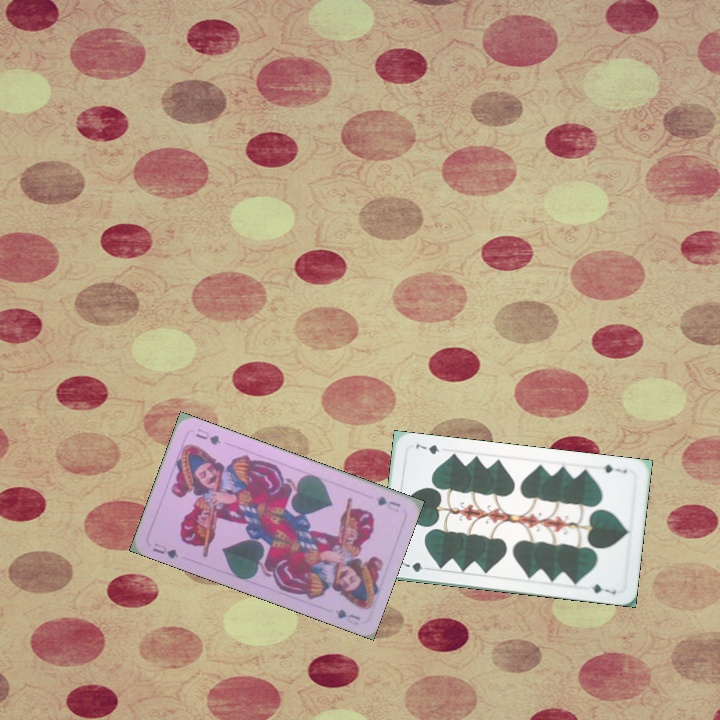G7: (394, 557, 434, 574), (600, 461, 630, 476)
GU: (372, 492, 403, 515), (149, 539, 181, 561)
